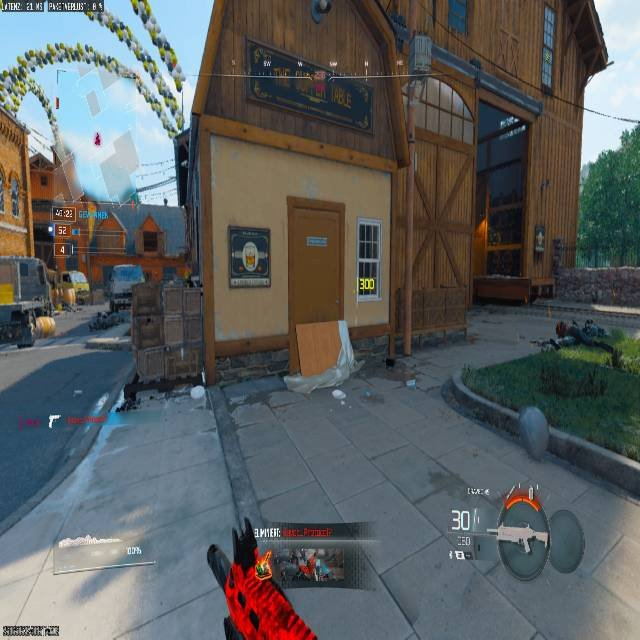head: (554, 320, 569, 337)
player: (544, 233, 567, 286)
